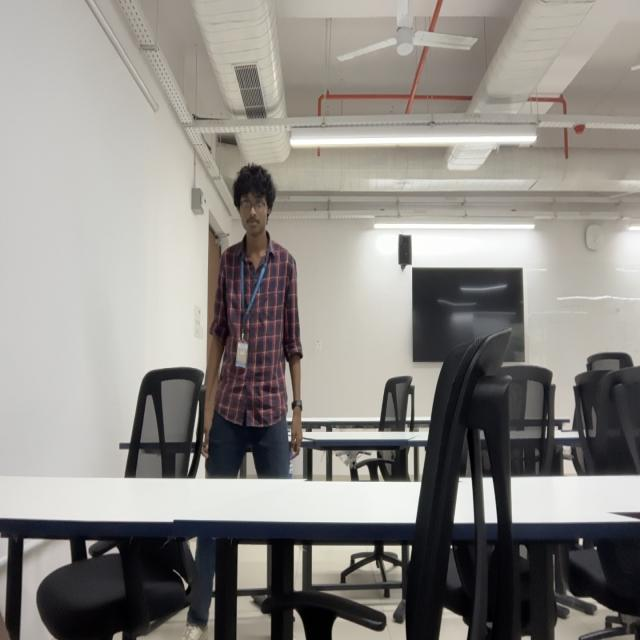darshan: (230, 164, 278, 238)
